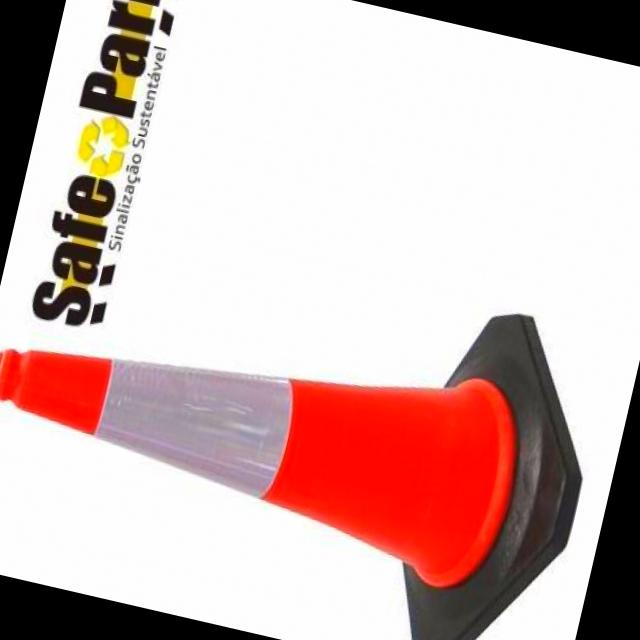cone: (0, 273, 556, 602)
